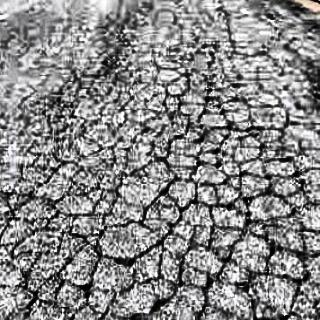pothole: (285, 36, 317, 62)
